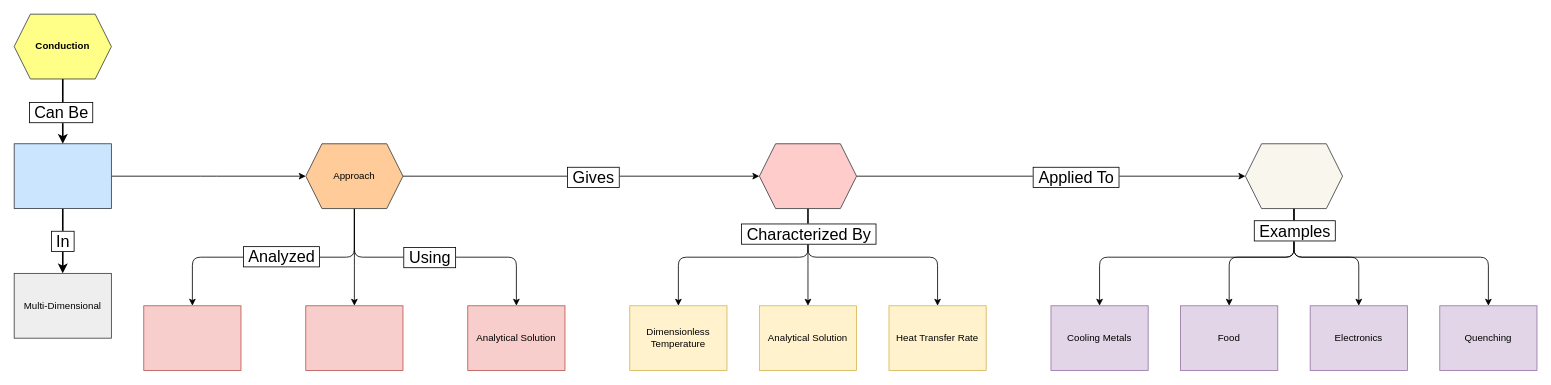
Some shapes in this 1551 by 385 pixel diagram are drawn without their labels. Here are the shapes that lost their labels. From the top down, the centre of each, then its label:
At (x=62, y=176): "Transient".
At (x=808, y=176): "Solution".
At (x=1294, y=176): "Product".
At (x=192, y=338): "Lumped Systems".
At (x=354, y=338): "Heisler Charts".
